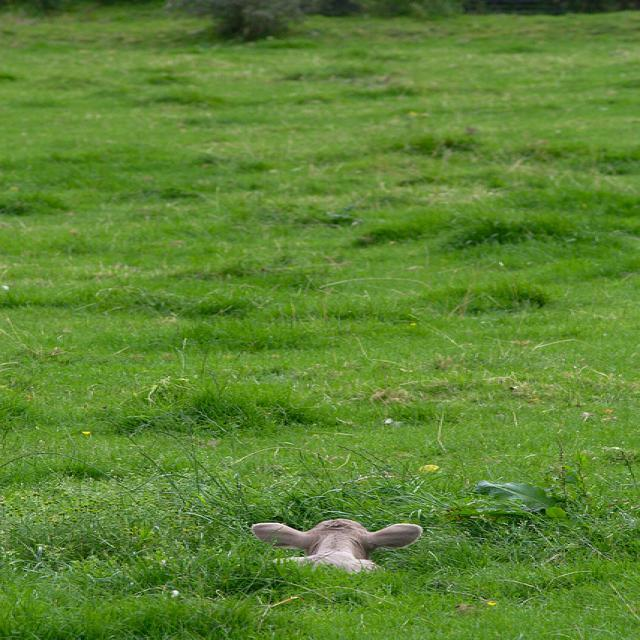cow: (253, 517, 420, 574)
